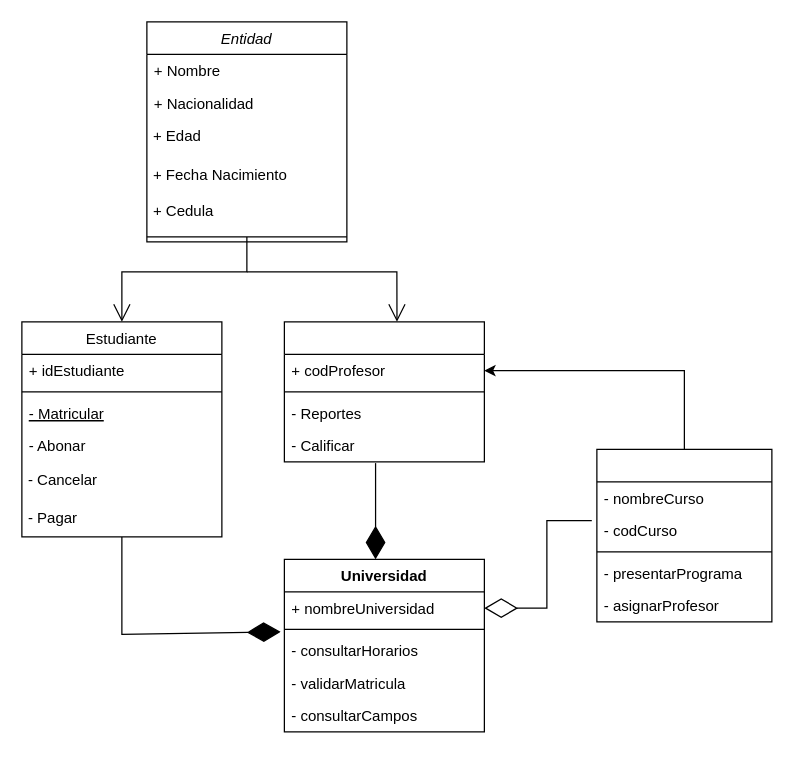
The diagram is 794 pixels wide and 758 high, and some of its shapes have lost their labels. The box of each missing label's shape, as (x1, y1, x2, y2) in pixels:
Materia: (596, 448, 772, 622)
Professor: (283, 321, 484, 462)
